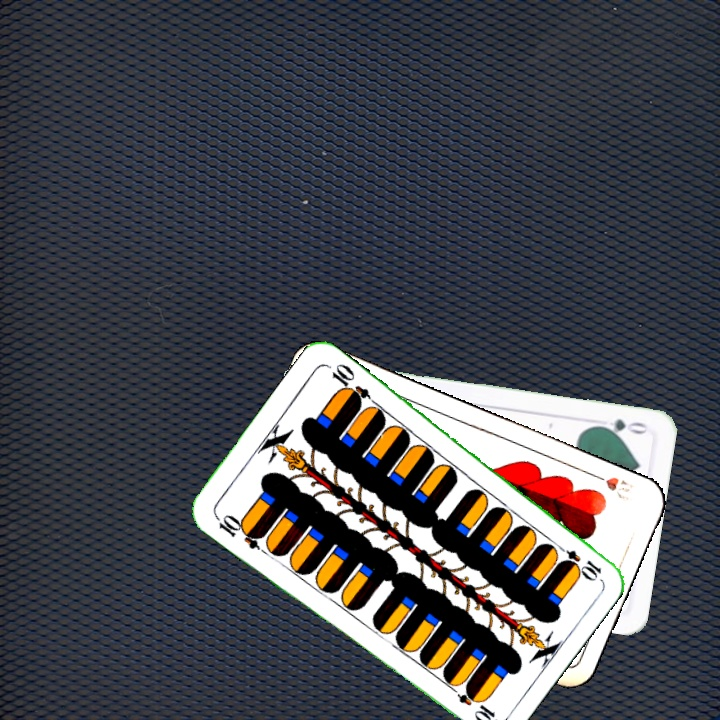E10: (550, 539, 605, 582), (211, 510, 266, 552)
GO: (591, 414, 651, 438)
H10: (586, 468, 635, 503)
